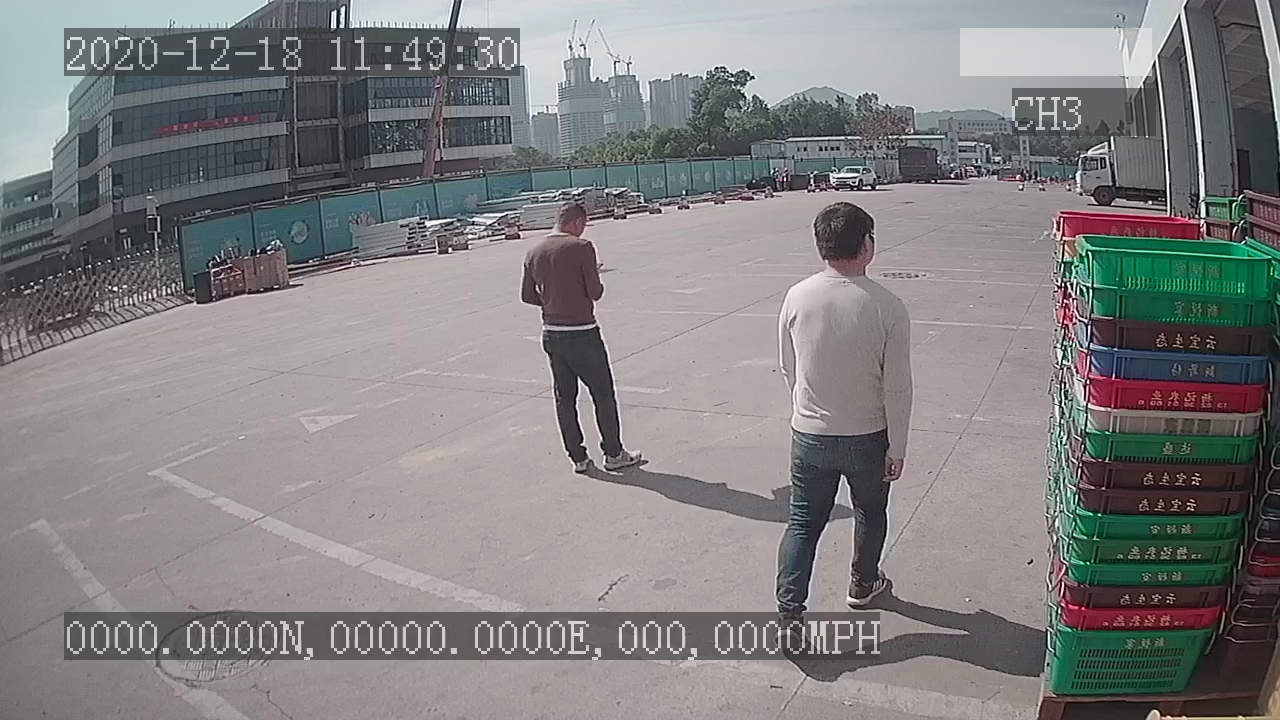person: (515, 197, 652, 479)
